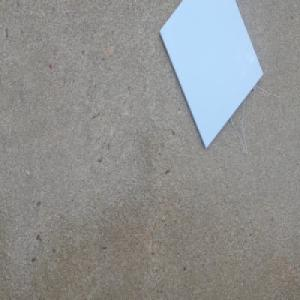PaintChip: (157, 0, 263, 151)
